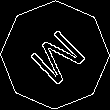M_SE: (21, 21, 89, 89)
